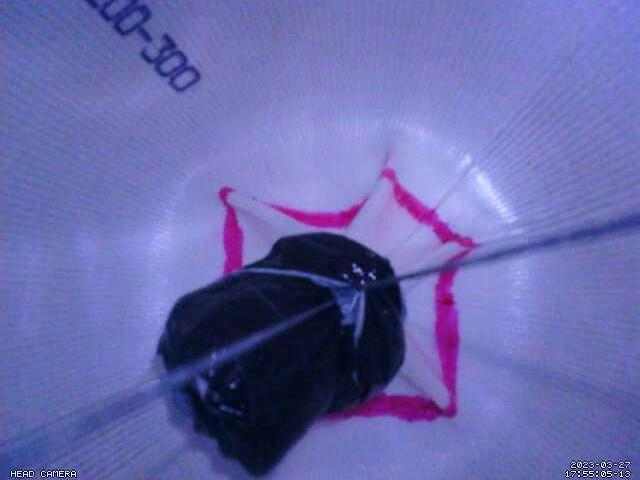red-circle: (219, 167, 478, 423)
